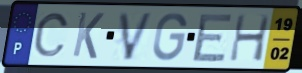C: (32, 11, 71, 59)
E: (190, 11, 235, 63)
G: (151, 11, 189, 63)
H: (227, 13, 272, 63)
K: (70, 10, 106, 61)
V: (117, 11, 156, 63)
